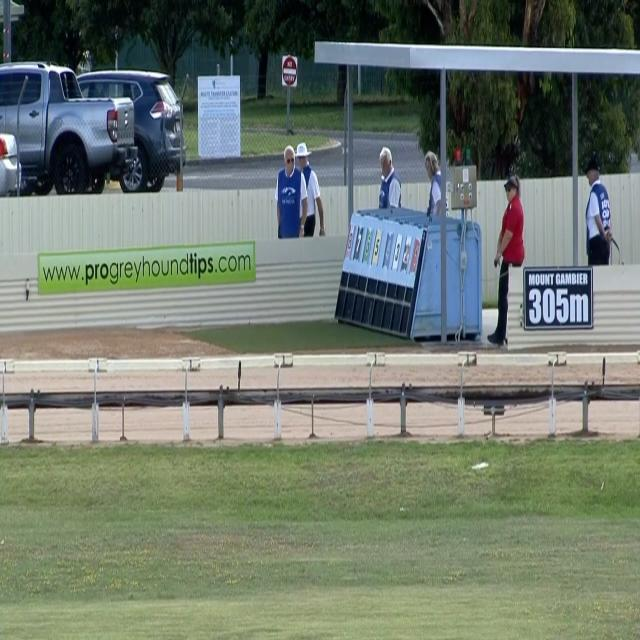rail: (0, 383, 640, 409)
